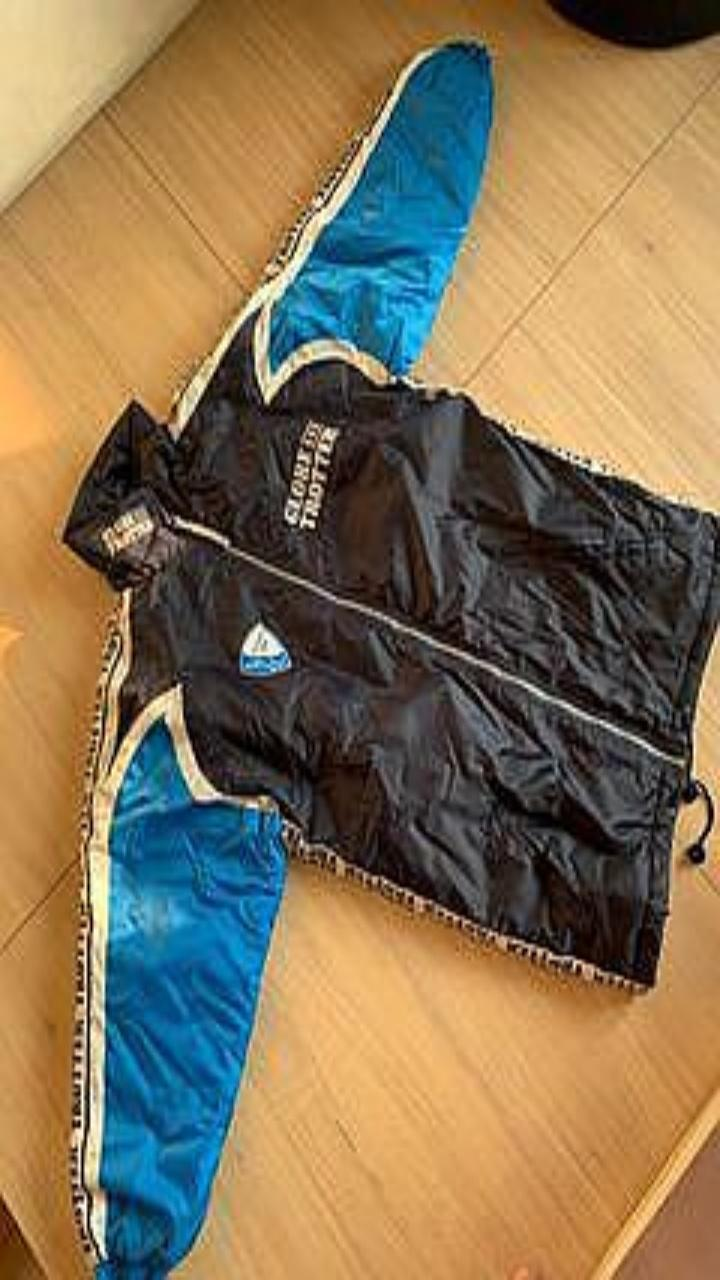Sports_Jacket: (65, 44, 719, 1279)
